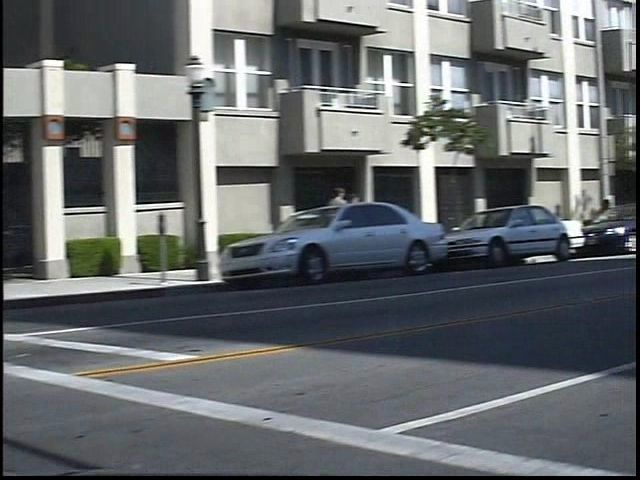person: (341, 181, 365, 256), (359, 188, 379, 250)
